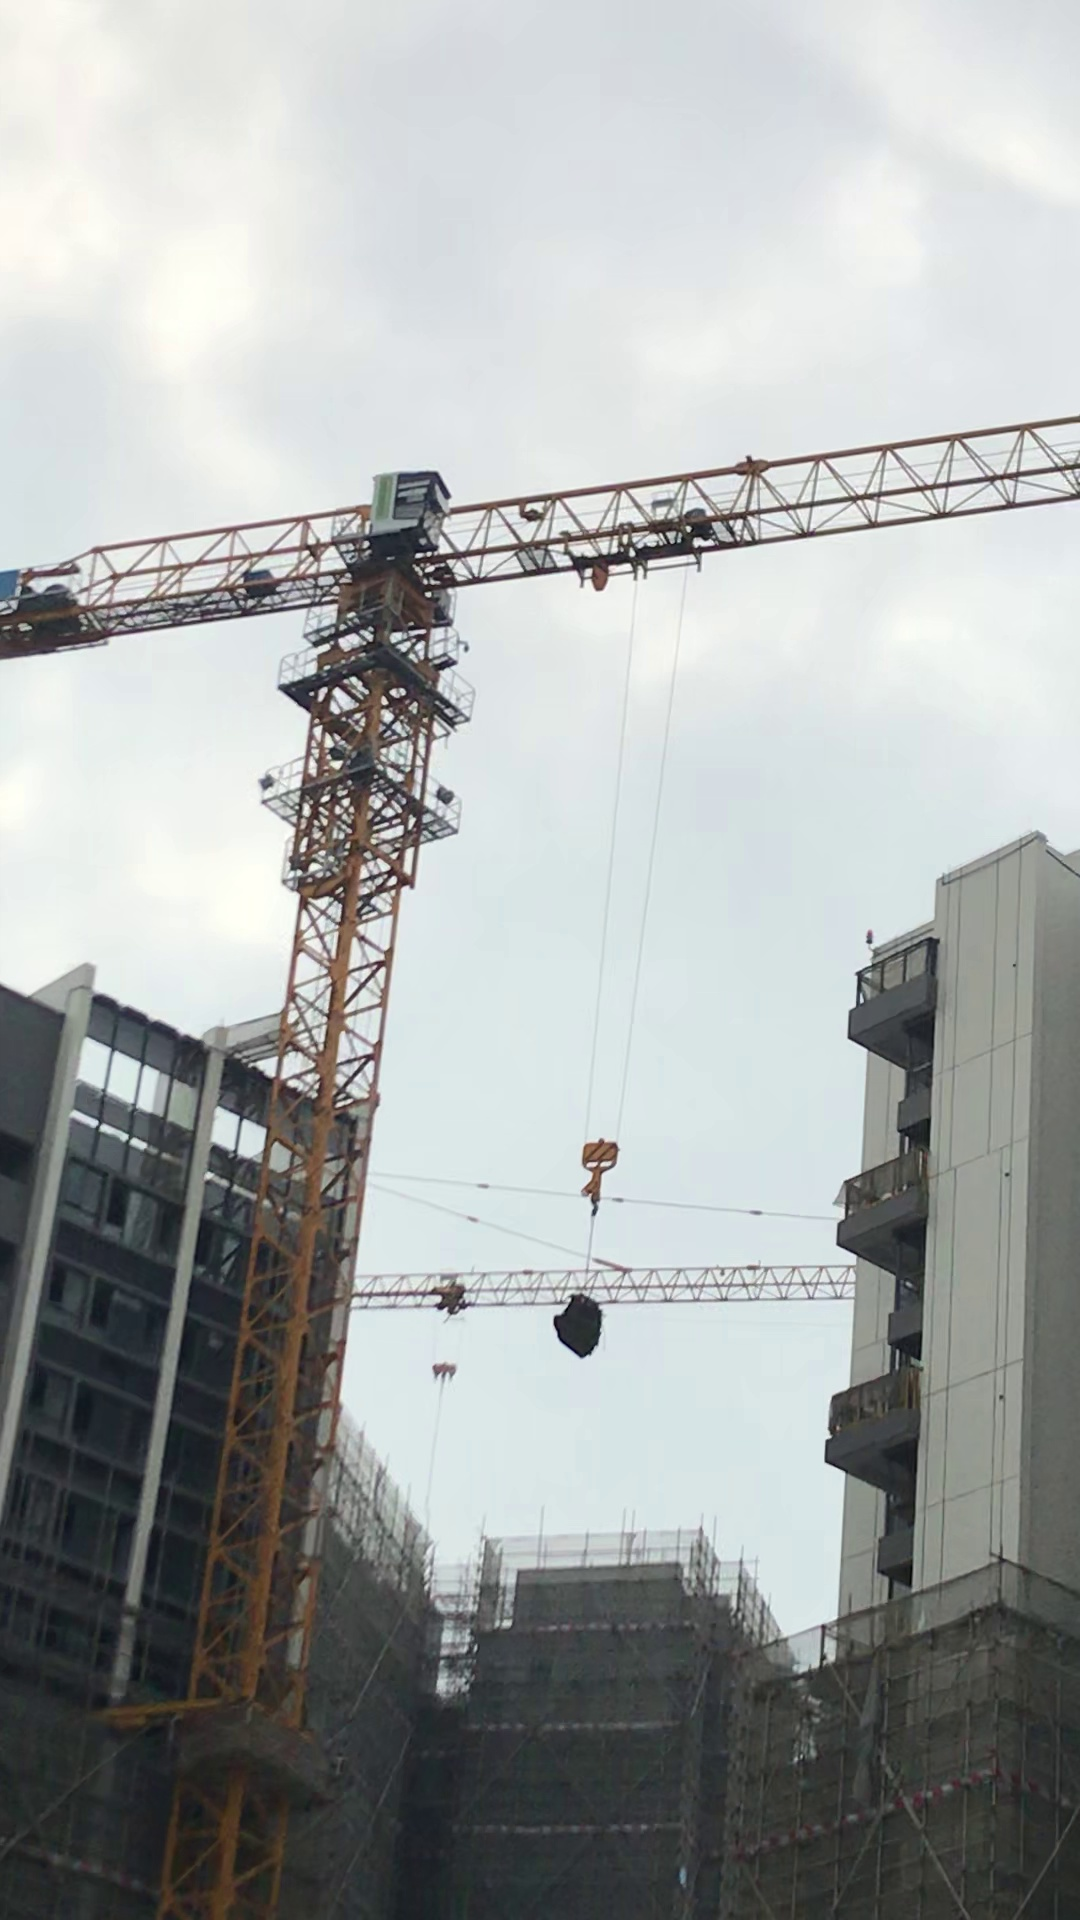hook: (574, 1142, 616, 1216), (427, 1357, 462, 1379)
